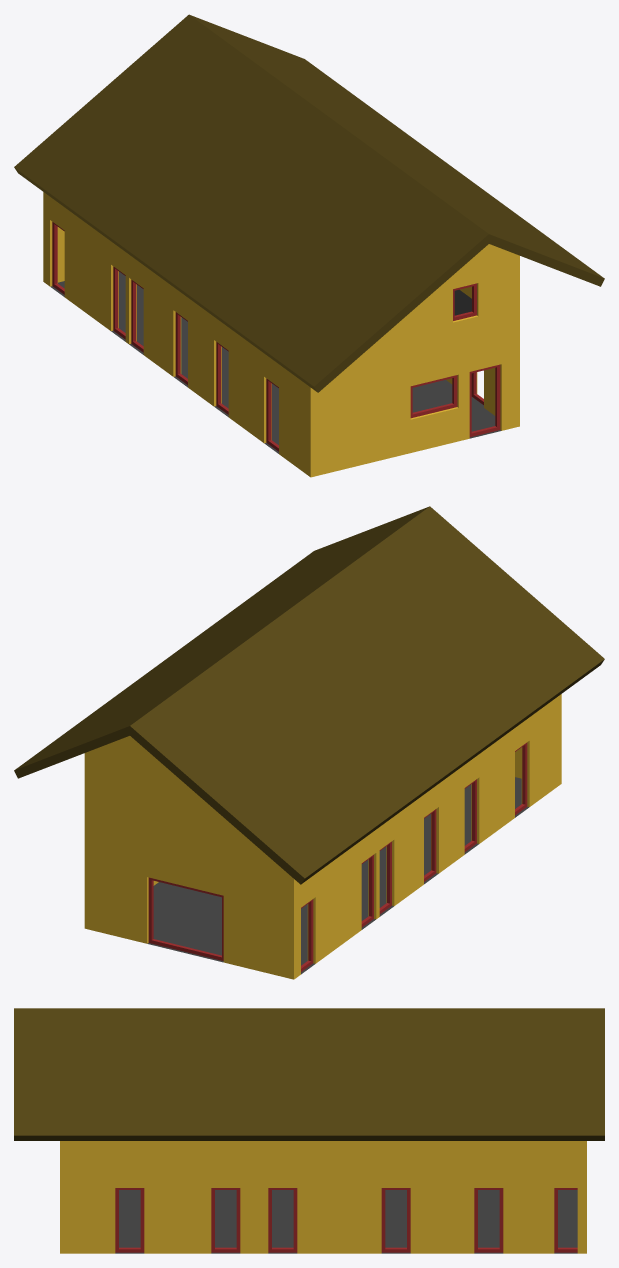
File: result.dae
3 views of the same model, one above another, from view 1: azimuth 30°, elevation 25°; view 2: azimuth 150°, elevation 25°; view 3: azimuth 270°, elevation 25° (orthographic).
Parts seen in each view (by area): view 1: 70719fb1-56f2-41f5-a83d-e6f0e2497acb__undefined (×5), 561997b1-f95d-4012-8abb-84c4daa24157__undefined (×3), c05fd1c5-5eb4-456c-9926-ff22418e1f5e__Plane_28, 13b7236d-893c-4644-a9d3-a61c7d3e1c0b__Box; view 2: 70719fb1-56f2-41f5-a83d-e6f0e2497acb__undefined (×5), 561997b1-f95d-4012-8abb-84c4daa24157__undefined (×2), c05fd1c5-5eb4-456c-9926-ff22418e1f5e__Plane_28, c3695d37-d664-4280-a94d-66d3a50e1668__Box_9; view 3: 70719fb1-56f2-41f5-a83d-e6f0e2497acb__undefined (×2), 561997b1-f95d-4012-8abb-84c4daa24157__undefined, c05fd1c5-5eb4-456c-9926-ff22418e1f5e__Plane_28, 11055c00-0a0b-48ec-b28f-c3fa4cd698af__Box_48, 850b43bc-c73b-4160-9c32-7d0e4177d999__Box_51, 3f2a977d-5aca-4f30-85f6-36b00e12f8e3__Box_54, b80056bb-a8ee-4378-a56d-3edc78b2b085__Box_57, 882a76b5-afe3-4571-9ad7-2415fbb00cca__Box_60, 1cb22288-821d-4df5-bc96-f0163bbc06b9__Box_63.
Part boxes in pixels (box(x1,y1,x2,y2)): 70719fb1-56f2-41f5-a83d-e6f0e2497acb__undefined (×5): box(14, 14, 604, 392); 561997b1-f95d-4012-8abb-84c4daa24157__undefined (×3): box(43, 192, 519, 477); c05fd1c5-5eb4-456c-9926-ff22418e1f5e__Plane_28: box(50, 271, 501, 453); 13b7236d-893c-4644-a9d3-a61c7d3e1c0b__Box: box(469, 364, 500, 437); 70719fb1-56f2-41f5-a83d-e6f0e2497acb__undefined (×5): box(14, 506, 604, 884); 561997b1-f95d-4012-8abb-84c4daa24157__undefined (×2): box(84, 694, 561, 979); c05fd1c5-5eb4-456c-9926-ff22418e1f5e__Plane_28: box(147, 777, 528, 974); c3695d37-d664-4280-a94d-66d3a50e1668__Box_9: box(148, 877, 223, 960); 70719fb1-56f2-41f5-a83d-e6f0e2497acb__undefined (×2): box(14, 1008, 604, 1140); 561997b1-f95d-4012-8abb-84c4daa24157__undefined: box(60, 1141, 586, 1253); c05fd1c5-5eb4-456c-9926-ff22418e1f5e__Plane_28: box(115, 1190, 577, 1253); 11055c00-0a0b-48ec-b28f-c3fa4cd698af__Box_48: box(115, 1188, 144, 1252); 850b43bc-c73b-4160-9c32-7d0e4177d999__Box_51: box(211, 1188, 240, 1252); 3f2a977d-5aca-4f30-85f6-36b00e12f8e3__Box_54: box(268, 1188, 297, 1252); b80056bb-a8ee-4378-a56d-3edc78b2b085__Box_57: box(381, 1188, 410, 1252); 882a76b5-afe3-4571-9ad7-2415fbb00cca__Box_60: box(474, 1188, 503, 1252); 1cb22288-821d-4df5-bc96-f0163bbc06b9__Box_63: box(554, 1188, 577, 1252).
Size of the model in its own units: 912 by 667 by 1629.
